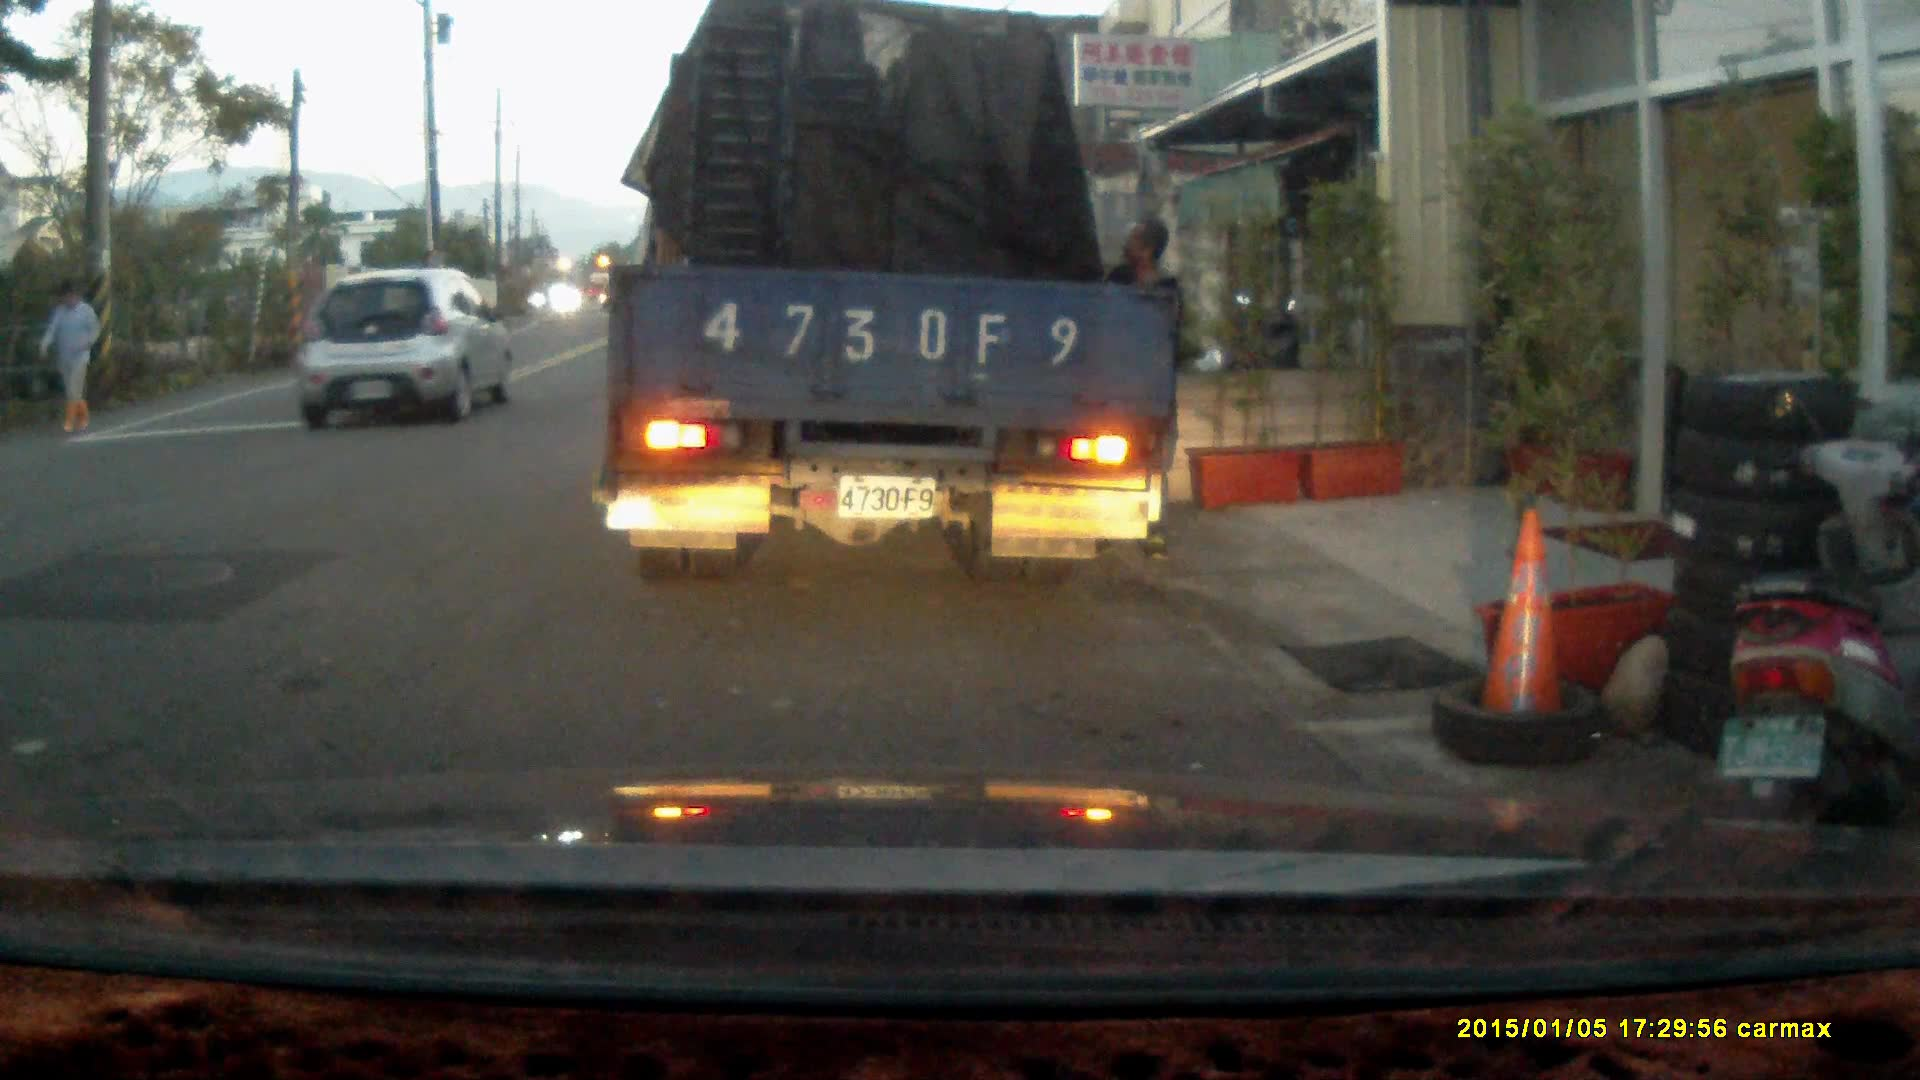pedestrian: (1086, 213, 1188, 566), (29, 277, 99, 430)
vehicle: (603, 23, 1186, 572), (296, 265, 517, 423)
